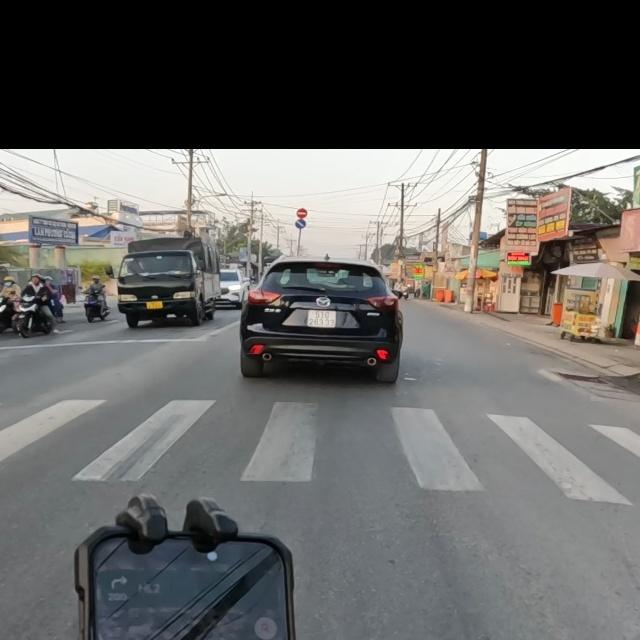license-plate: (305, 308, 337, 329), (147, 301, 164, 309)
